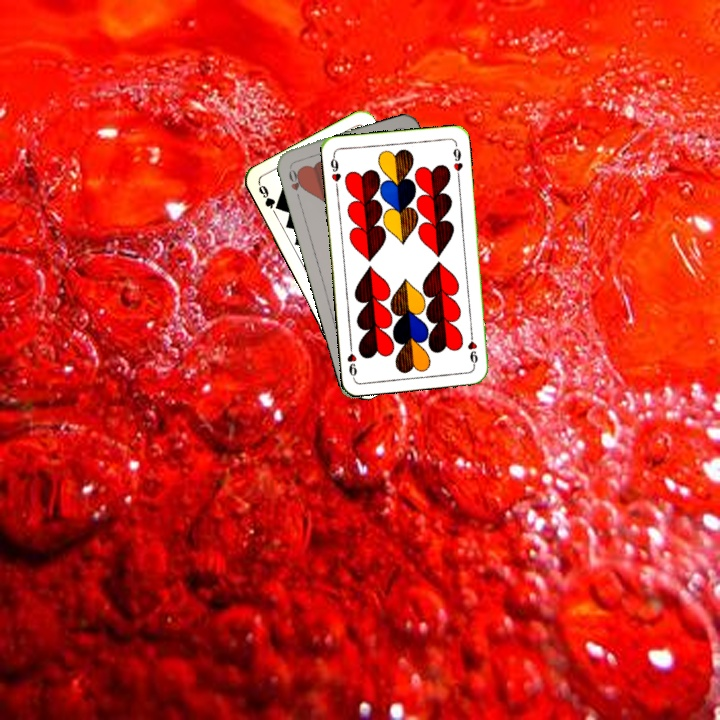G9: (254, 180, 279, 217)
H9: (326, 151, 343, 192), (464, 328, 480, 369)
HO: (285, 162, 307, 202)
